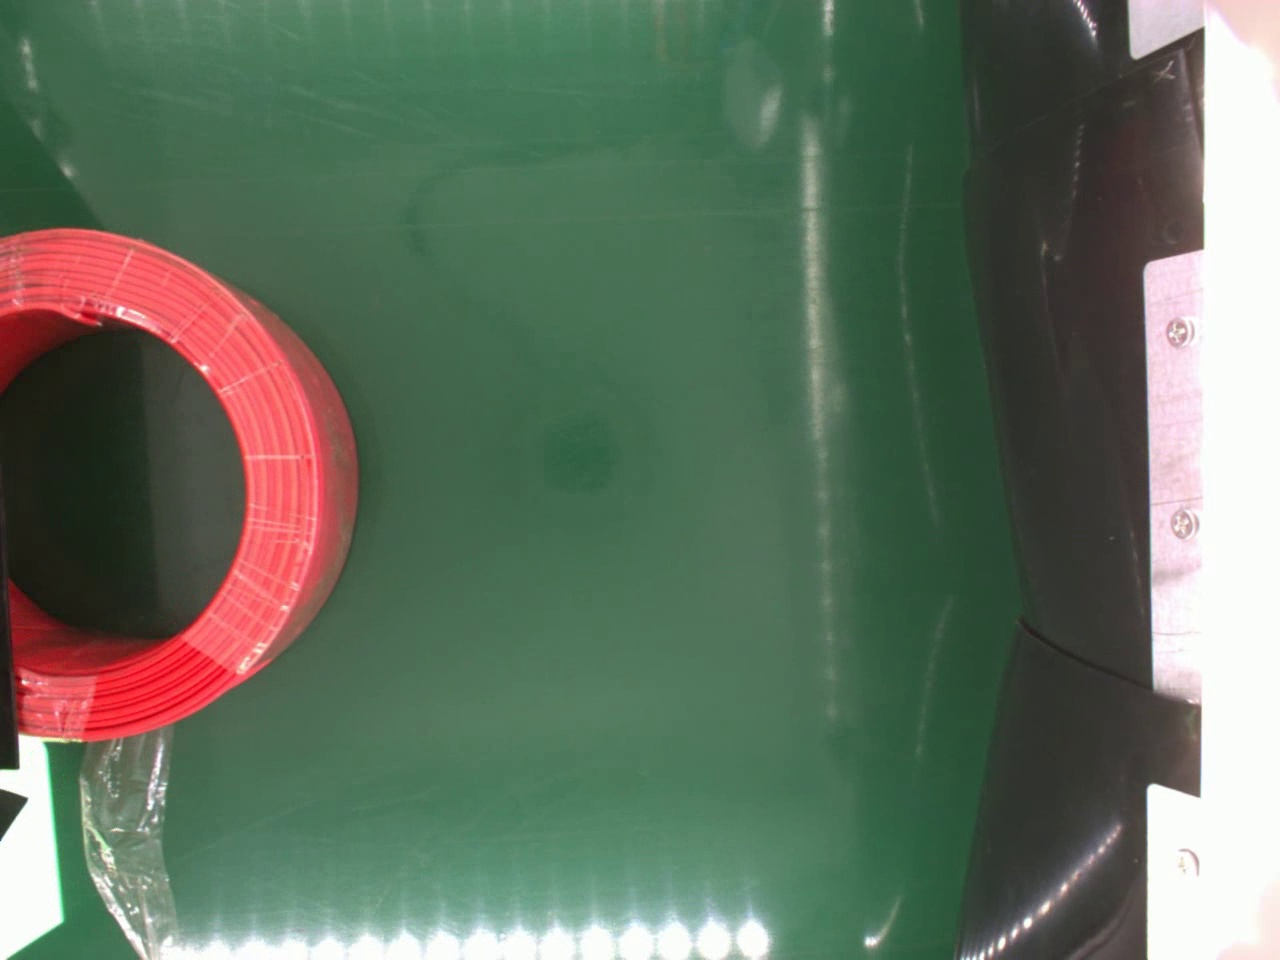red: (0, 226, 363, 745)
